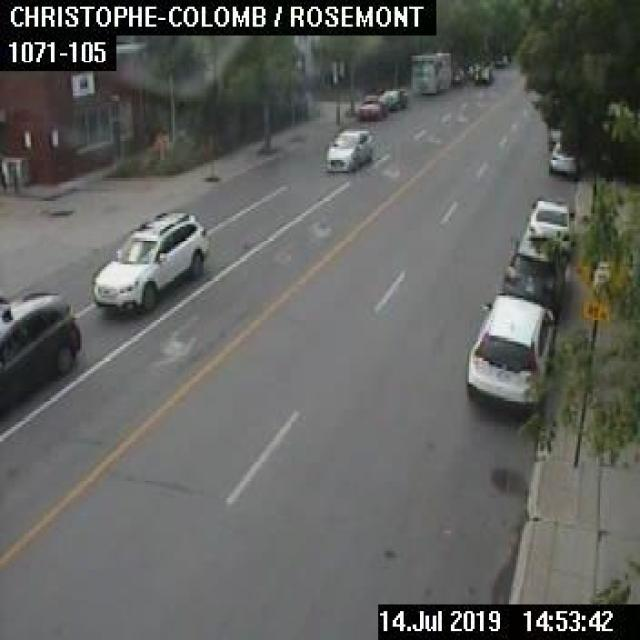vehicle: (92, 213, 207, 311), (466, 294, 554, 410), (0, 291, 80, 416), (502, 236, 562, 309), (525, 196, 574, 248), (324, 128, 372, 170), (410, 51, 450, 94), (548, 137, 574, 175), (356, 94, 386, 119), (380, 88, 406, 108), (474, 66, 490, 84)
